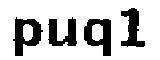1: (117, 7, 146, 53)
p: (12, 11, 42, 60)
q: (82, 16, 114, 60)
u: (48, 18, 81, 51)
